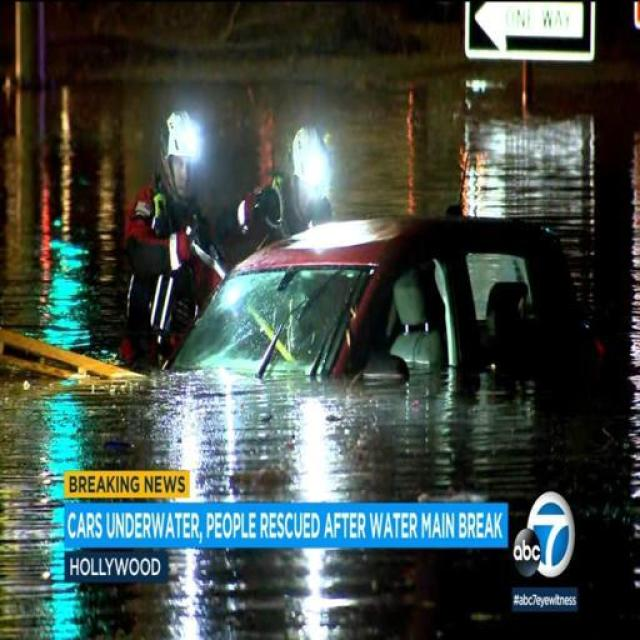rescuer: (114, 98, 212, 380), (229, 109, 377, 274)
